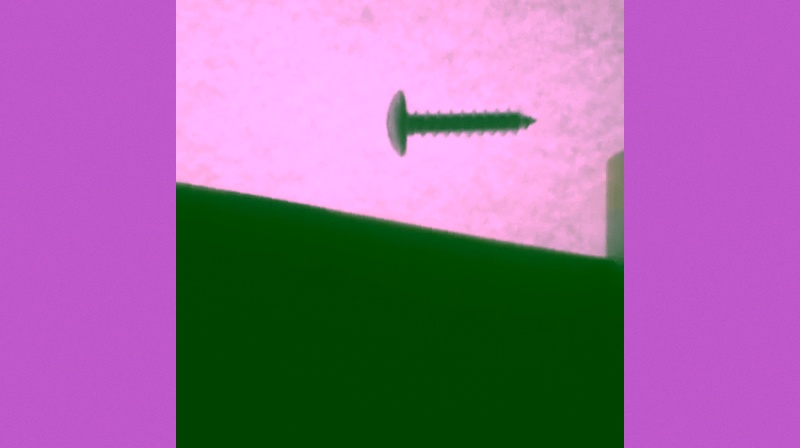S003: (382, 86, 538, 162)
